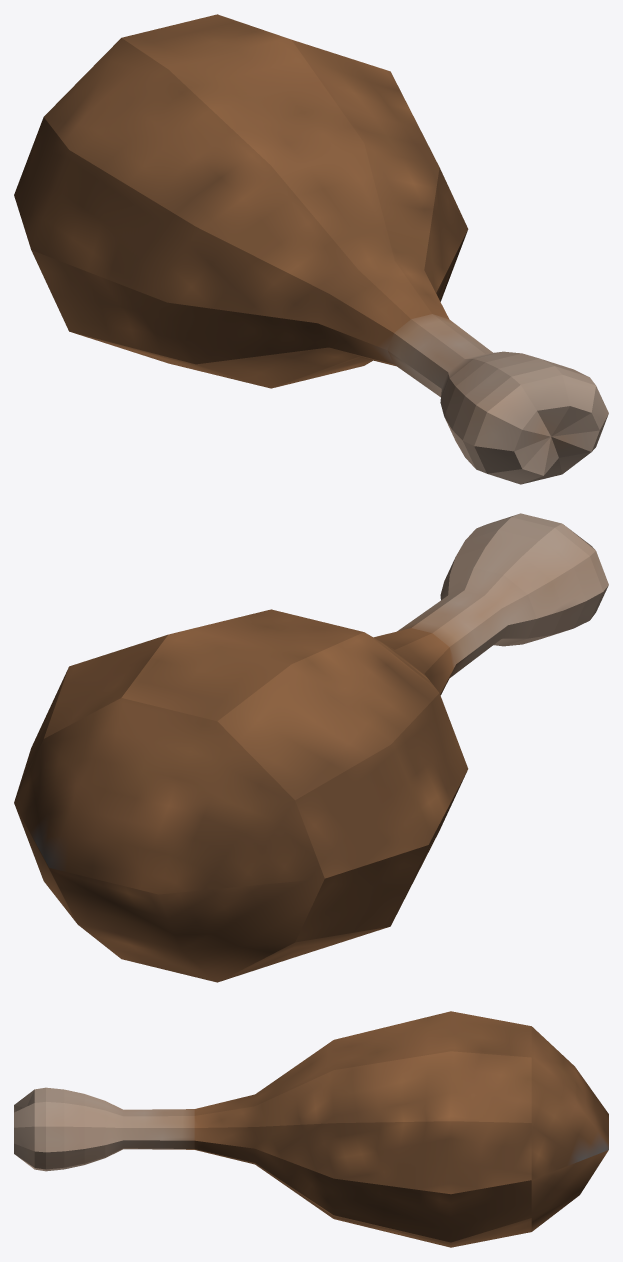
The model's file is chickenwing.fbx.
3 views of the same model, one above another, from view 1: azimuth 30°, elevation 25°; view 2: azimuth 150°, elevation 25°; view 3: azimuth 270°, elevation 25° (orthographic). The views are drawn at different scales.
Visible parts, largest first — view 1: pSphere15; view 2: pSphere15; view 3: pSphere15.
Boxes of the visible parts, x1,y1,x2,y2 form: pSphere15: [14, 14, 608, 484]; pSphere15: [14, 513, 608, 982]; pSphere15: [14, 1011, 608, 1247].
Size of the model in its own units: 54.17 by 38.3 by 105.
